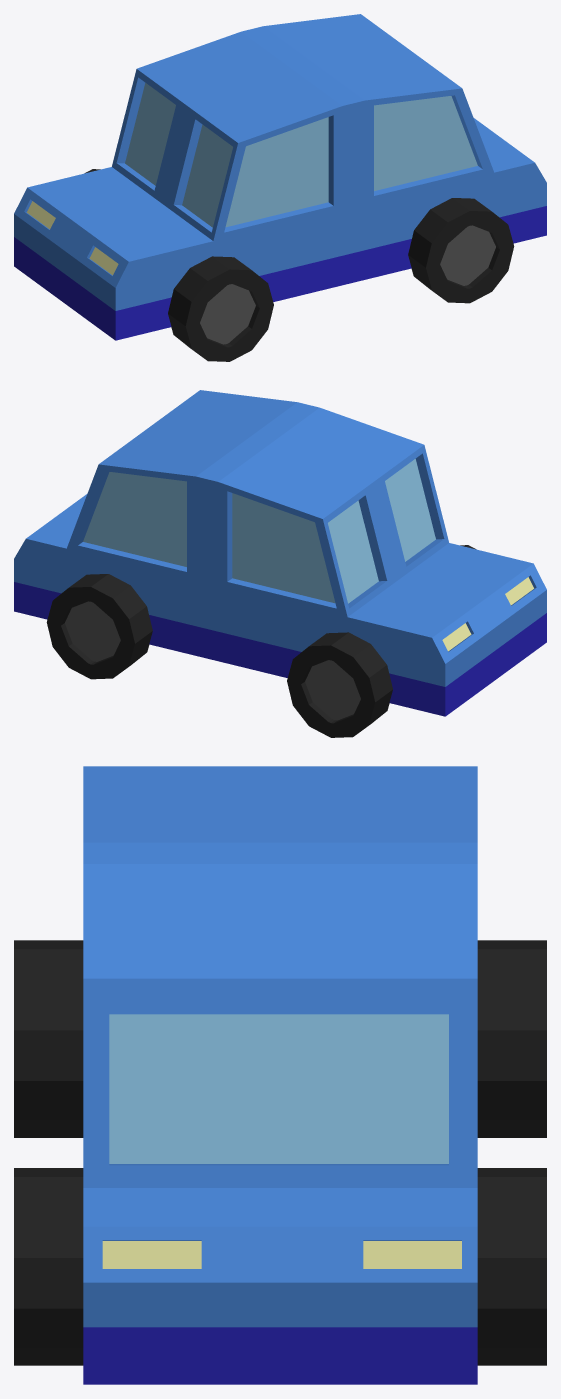
File: CAR02_Model.fbx
3 renders of one model, top to bottom at view 1: azimuth 30°, elevation 25°; view 2: azimuth 150°, elevation 25°; view 3: azimuth 270°, elevation 25°, orthographic. The views are drawn at different scales.
Visible parts, largest first — view 1: CAR02, WHEELS; view 2: CAR02, WHEELS; view 3: CAR02, WHEELS.
Boxes of the visible parts, box(x1,y1,x2,y2) form: CAR02: box(14, 14, 546, 340); WHEELS: box(84, 169, 514, 361); CAR02: box(14, 390, 546, 716); WHEELS: box(46, 545, 476, 737); CAR02: box(83, 766, 477, 1384); WHEELS: box(14, 940, 546, 1365).
Bounding box in the file's own units: 4.9 × 2.29 × 2.7.
